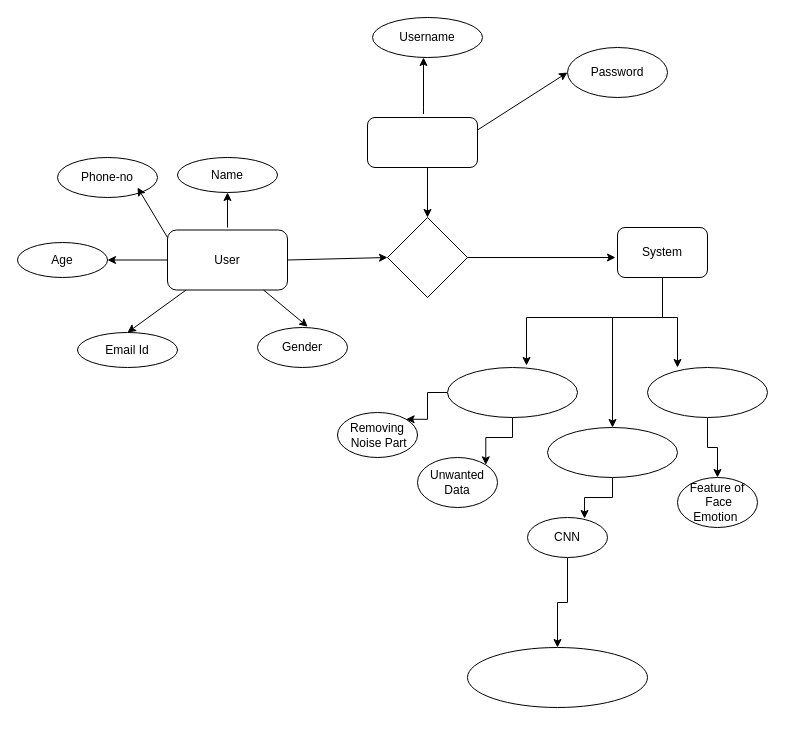
Image size: 785x733. Some labels were removed from this diagram. The shapes that lost their labels are listed below. From the top down, each one's box as (x1, y1, x2, y2) in pixels, then its label:
(366, 116, 478, 168): Login
(386, 216, 468, 298): Has
(446, 366, 578, 418): Pre-Processing
(646, 366, 768, 418): Feature Extraction
(546, 426, 678, 478): Classification
(466, 646, 648, 708): Emotion Detection
